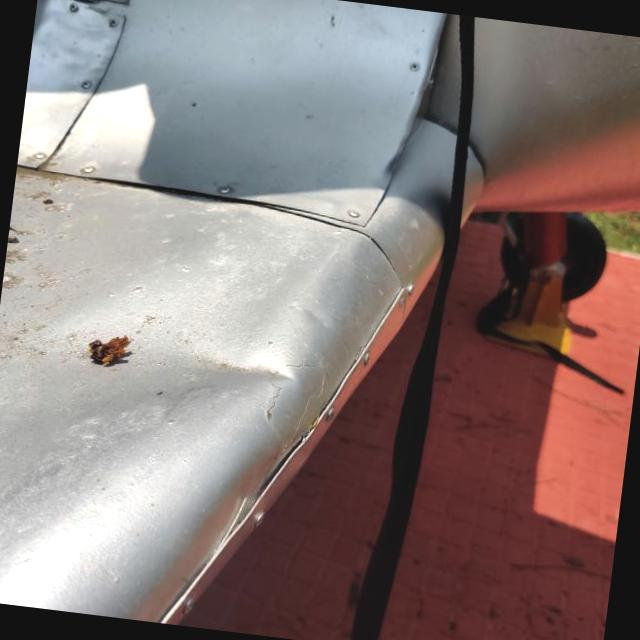crack: (37, 0, 133, 37)
dent: (175, 320, 306, 418)
